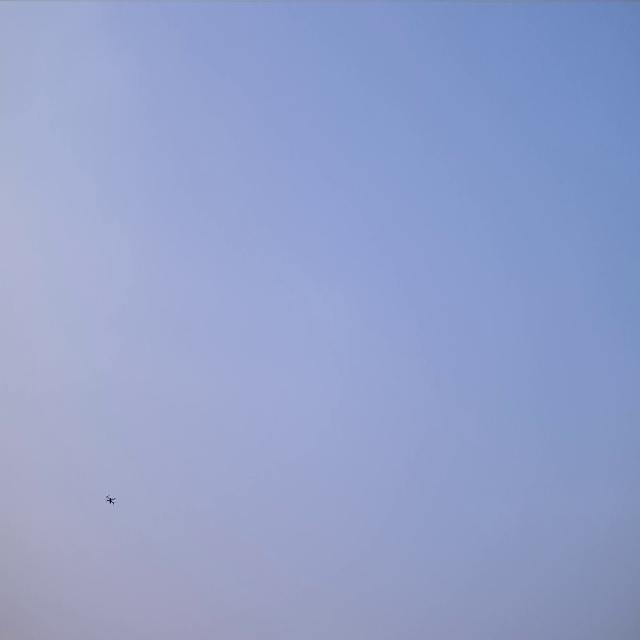UAV: (105, 493, 116, 507)
